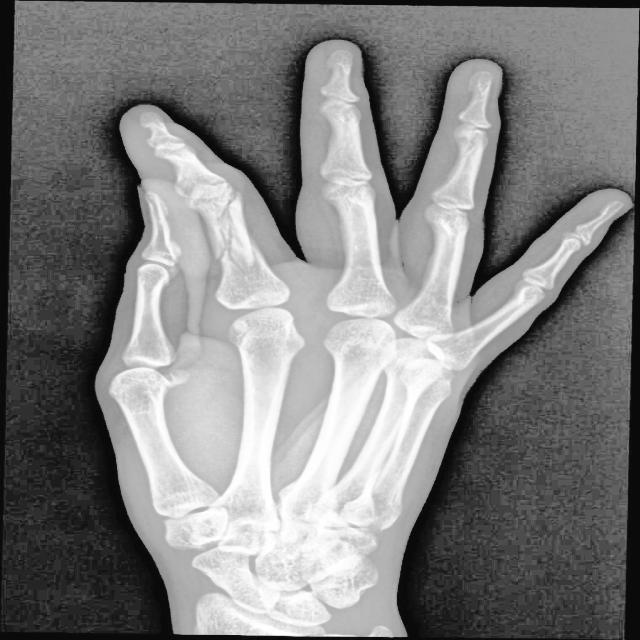Comminuted Fracture: (204, 191, 262, 276)
